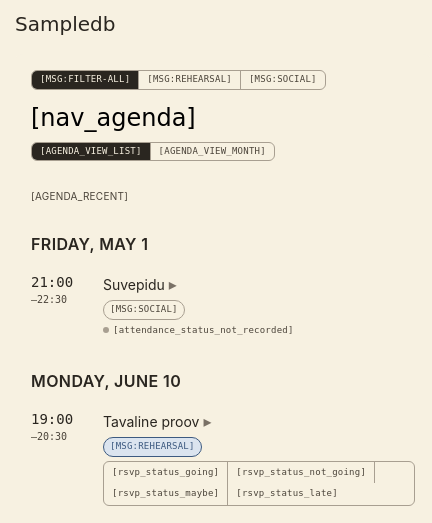
Test case: #214 review F3 — a type filter that empties Recent says so › a member filtering to a type with zero matching RECENT rows sees the empty notice
expect the element with test id "agenda-recent" is shown: met, box [31,190,294,334]
Click the button "[msg:rehearsal]" at (190, 80), box [139,71,241,88]
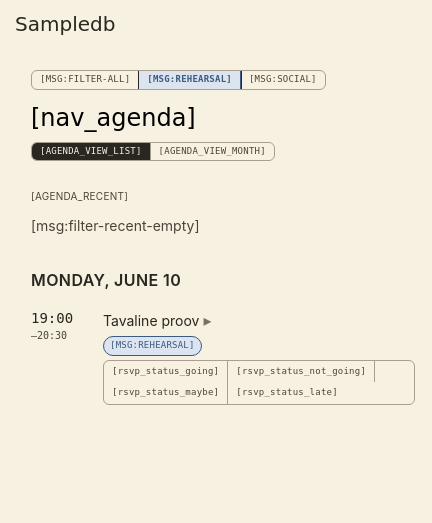
expect the element with test id "agenda-recent" is shown: met, box [31,190,200,234]
expect the text with test id "agenda-recent-filter-empty" reads "[msg:filter-recent-empty]": met, box [31,217,200,234]
